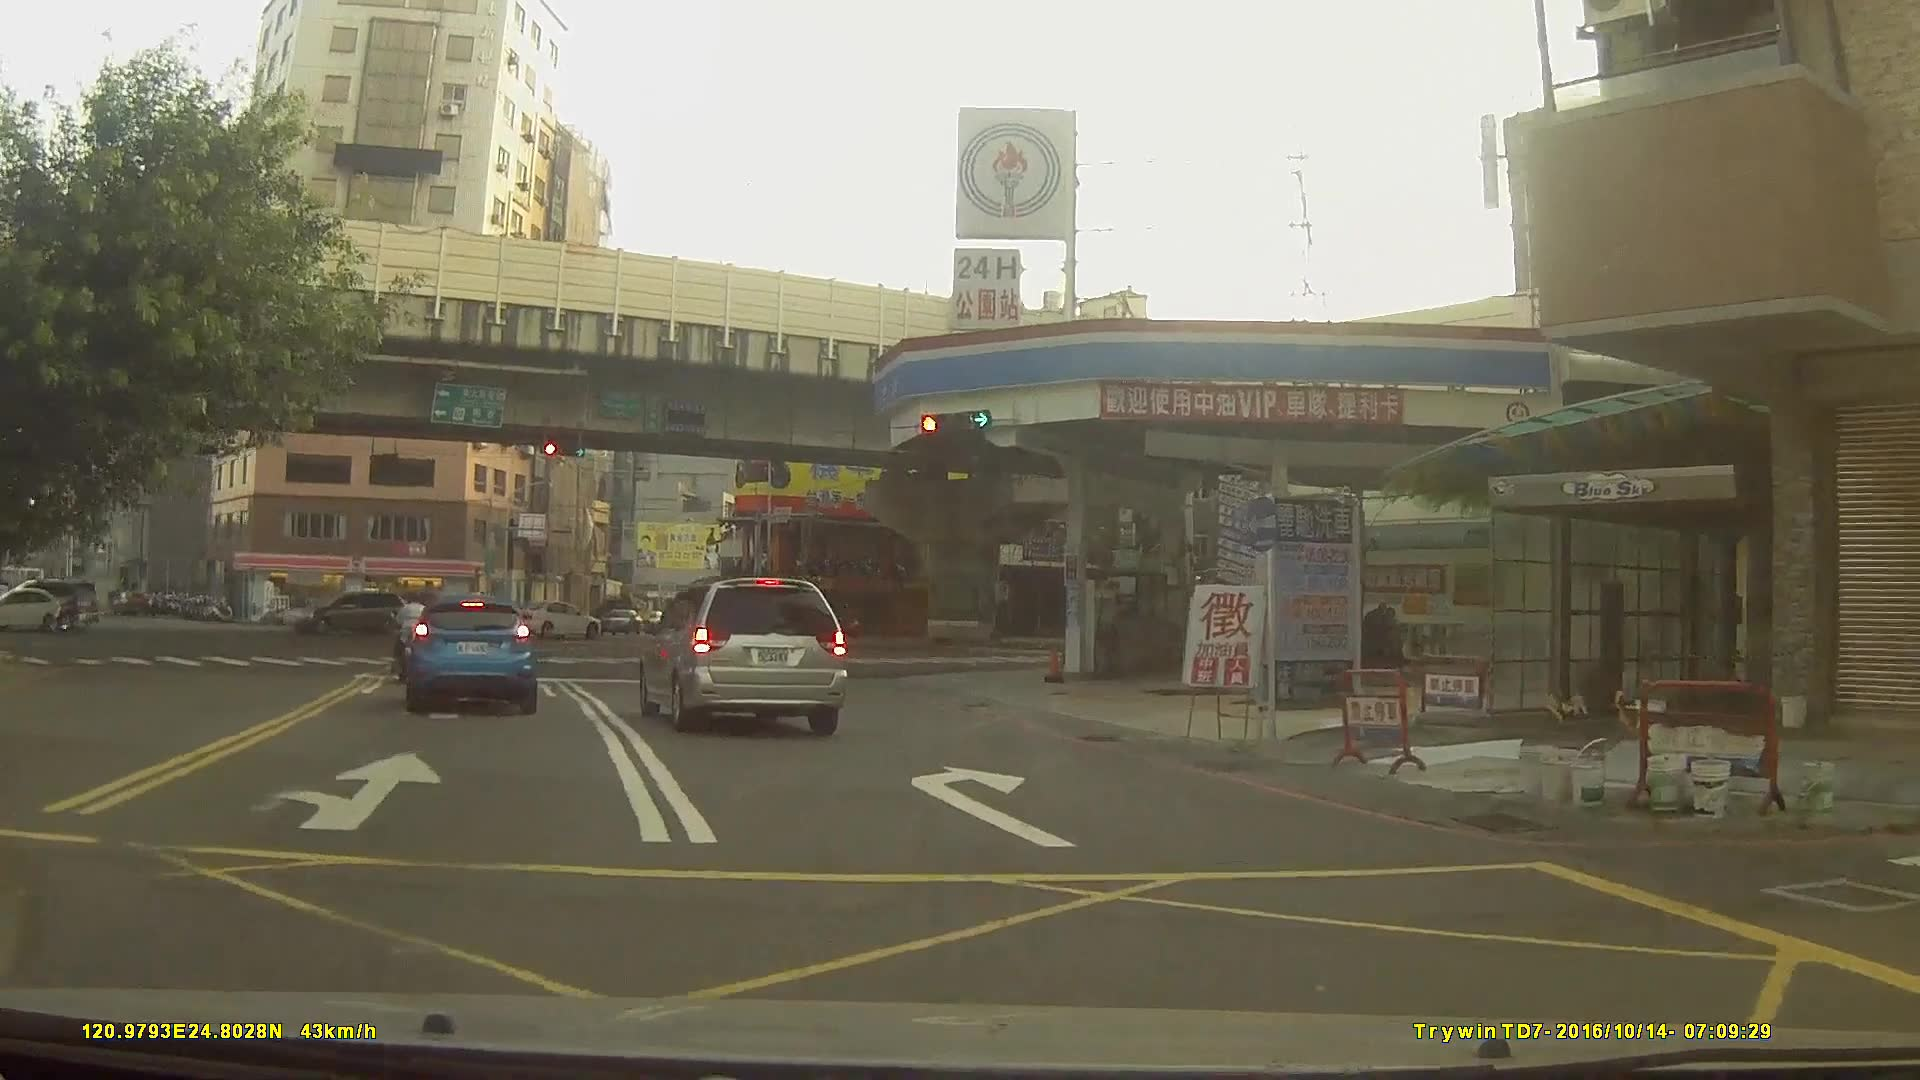rider: (392, 594, 431, 677), (46, 598, 82, 634)
vehicle: (639, 575, 848, 736), (401, 594, 537, 716), (287, 591, 407, 639), (507, 600, 602, 641), (0, 587, 73, 634)
